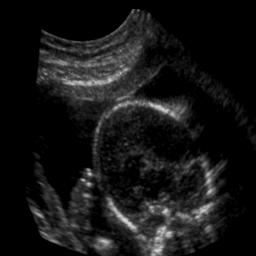abnormal: (65, 73, 236, 256)
